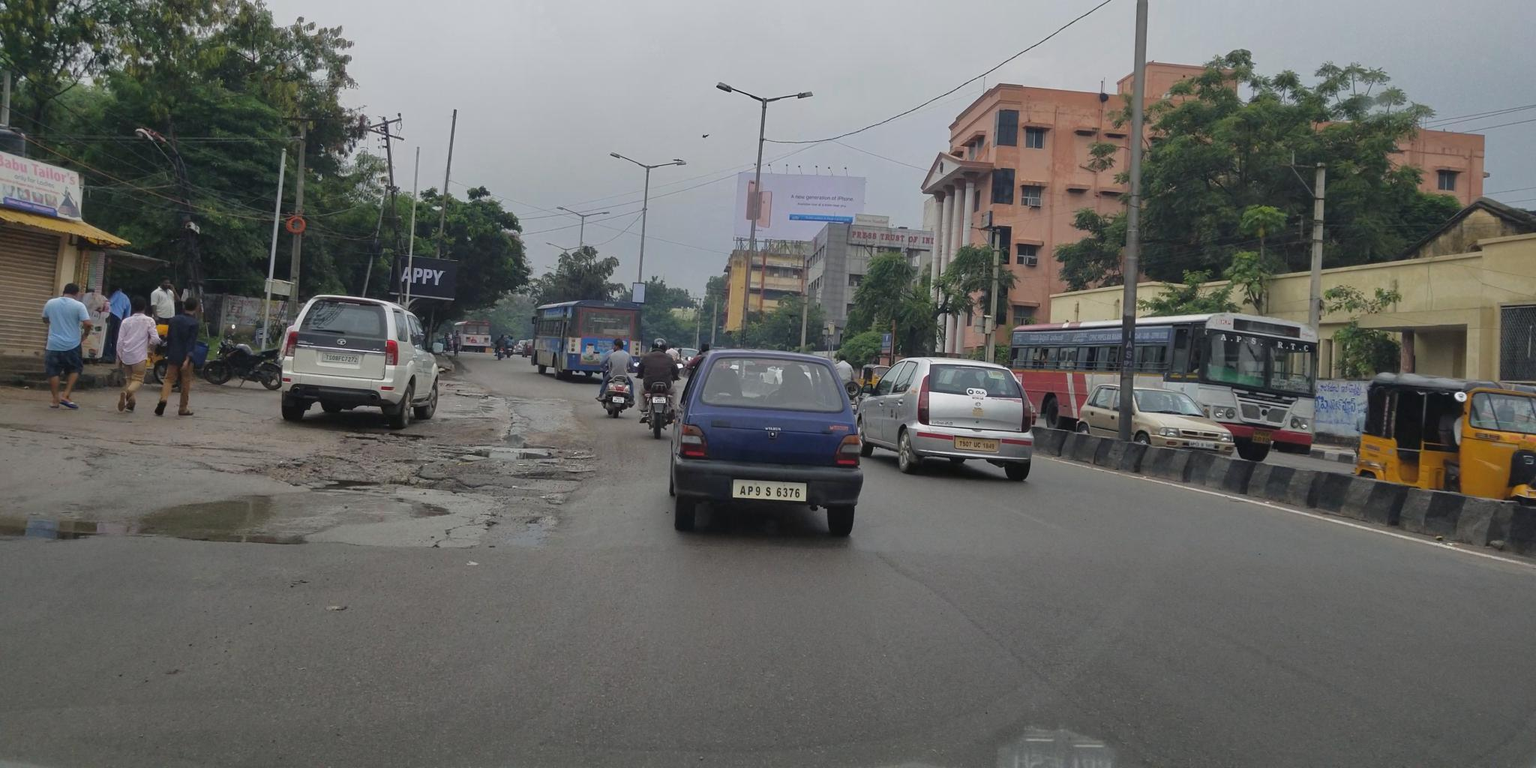streetlight: (751, 70, 844, 116), (696, 76, 771, 118), (606, 133, 657, 186), (641, 140, 697, 184), (552, 194, 584, 222), (580, 201, 614, 227)
